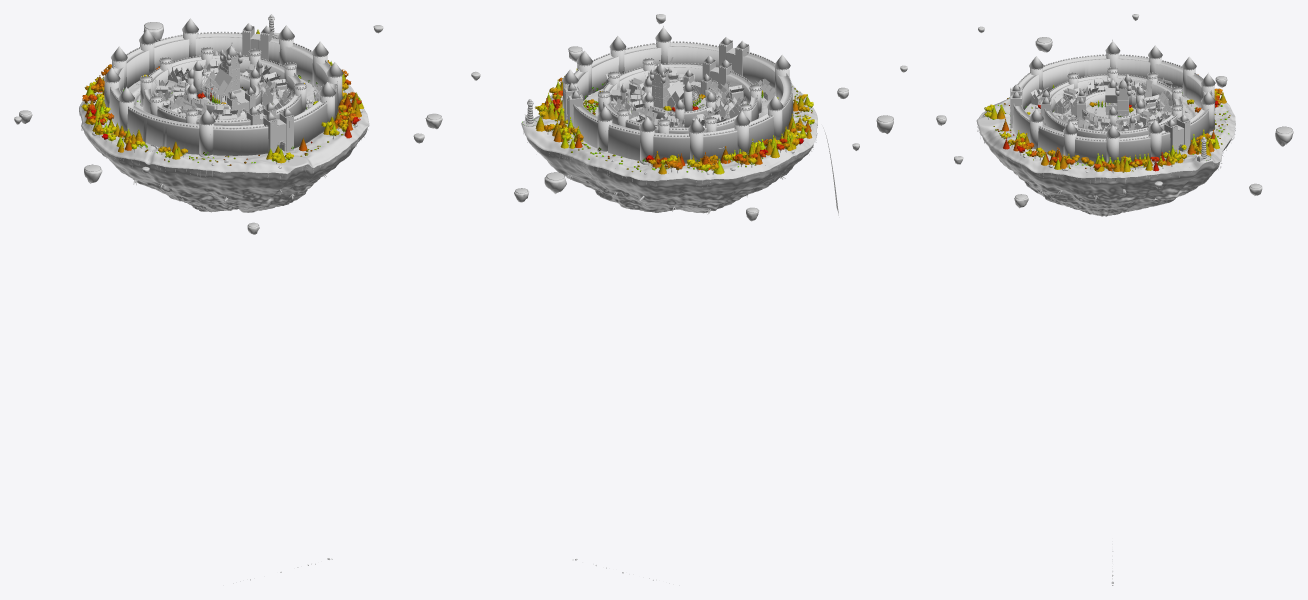
Rendered from ile.glb.
3 views of the same model, side by side, from view 1: azimuth 30°, elevation 25°; view 2: azimuth 150°, elevation 25°; view 3: azimuth 270°, elevation 25° (orthographic). The views are drawn at different scales.
Visible parts, largest first — view 1: rempart_exterieur, roche, sol_campagne, feuillage, rempart_milieu, portes, maisons_0, maisons_1, rempart_interieur, chateau, interieurs; view 2: rempart_exterieur, roche, feuillage, sol_campagne, rempart_milieu, portes, maisons_0, rempart_interieur, chateau, maisons_1, interieurs; view 3: rempart_exterieur, roche, sol_campagne, feuillage, rempart_milieu, portes, maisons_0, rempart_interieur, maisons_1, interieurs, chateau.
Boxes of the visible parts, x1,y1,x2,y2 form: rempart_exterieur: (103,18,343,157); roche: (79,91,368,212); sol_campagne: (79,78,369,173); feuillage: (81,29,363,165); rempart_milieu: (140,46,306,125); portes: (213,23,293,152); maisons_0: (153,60,280,108); maisons_1: (166,79,293,119); rempart_interieur: (185,62,262,114); chateau: (192,42,242,102); interieurs: (198,68,278,119); rempart_exterieur: (562,26,793,164); roche: (523,91,817,213); feuillage: (522,68,814,174); sol_campagne: (521,83,817,181); rempart_milieu: (598,57,761,133); portes: (564,37,749,125); maisons_0: (613,87,730,127); rempart_interieur: (642,77,717,127); chateau: (649,60,705,111); maisons_1: (629,70,746,118); interieurs: (667,74,739,111); rempart_exterieur: (1012,40,1215,164); roche: (977,107,1235,216); sol_campagne: (976,96,1235,178); feuillage: (984,74,1230,172); rempart_milieu: (1043,67,1182,138); portes: (1010,84,1190,153); maisons_0: (1114,80,1173,131); rempart_interieur: (1081,79,1145,125); maisons_1: (1062,76,1110,131); interieurs: (1053,88,1117,122); chateau: (1094,74,1132,117).
Bounding box in the file's own units: 336 × 453 × 313.
